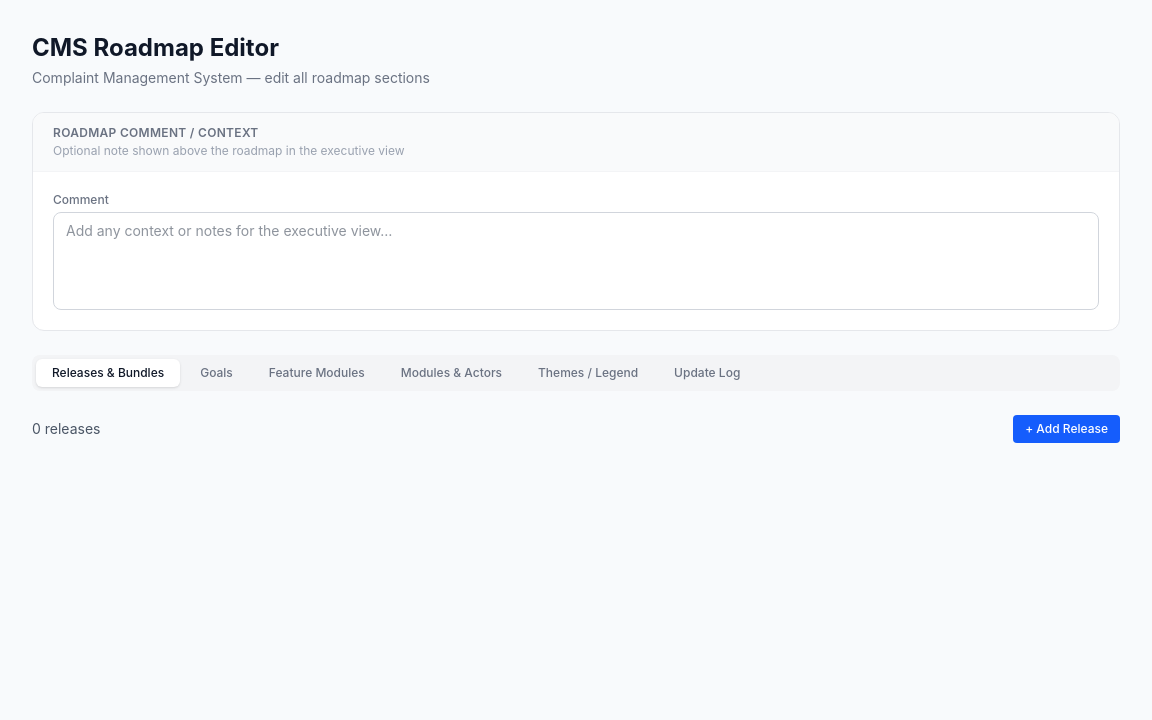
it: ComplaintsRoadmapEditor (via RoadmapEditor with cms slug) › T-50.11: "+ Add Release" opens release form with Name field
Step 1. Click the button "+ Add Release" → (1067, 429), box [1013,415,1120,443]
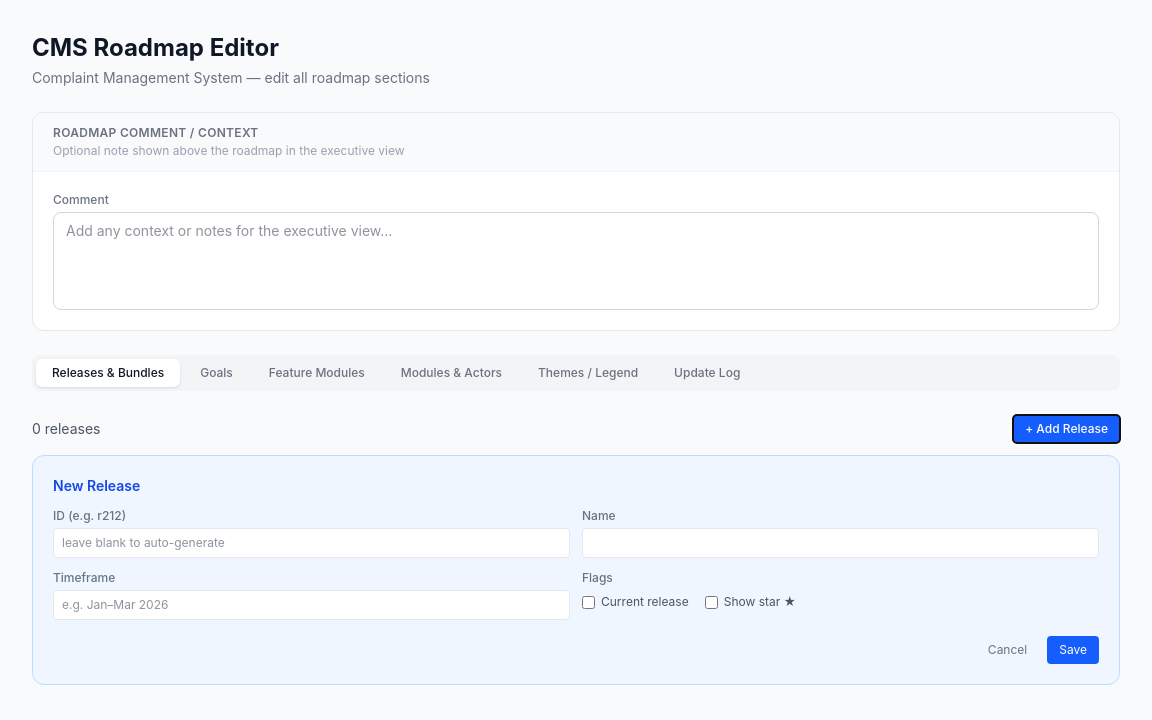
Expected: the text "New Release" is shown, [53,477,140,494]
